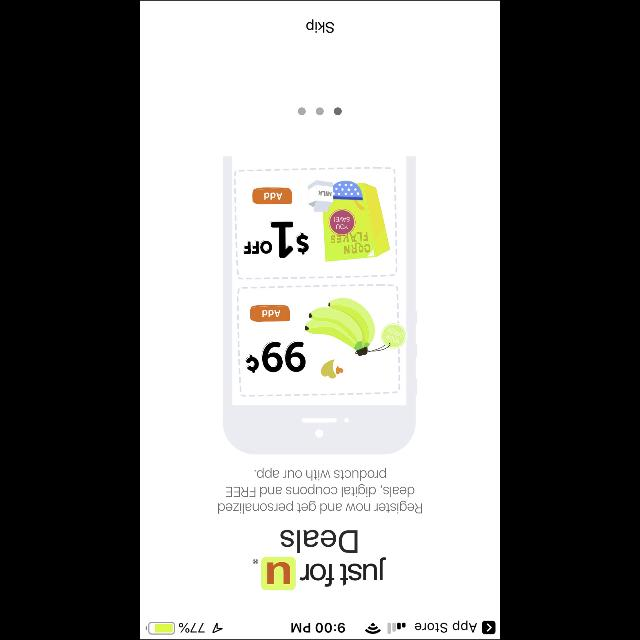image: (223, 156, 417, 454), (252, 530, 386, 590)
pageindicator: (298, 107, 342, 115)
text: (218, 468, 422, 514), (306, 19, 334, 33)
uppertaskbar: (140, 620, 500, 640)
